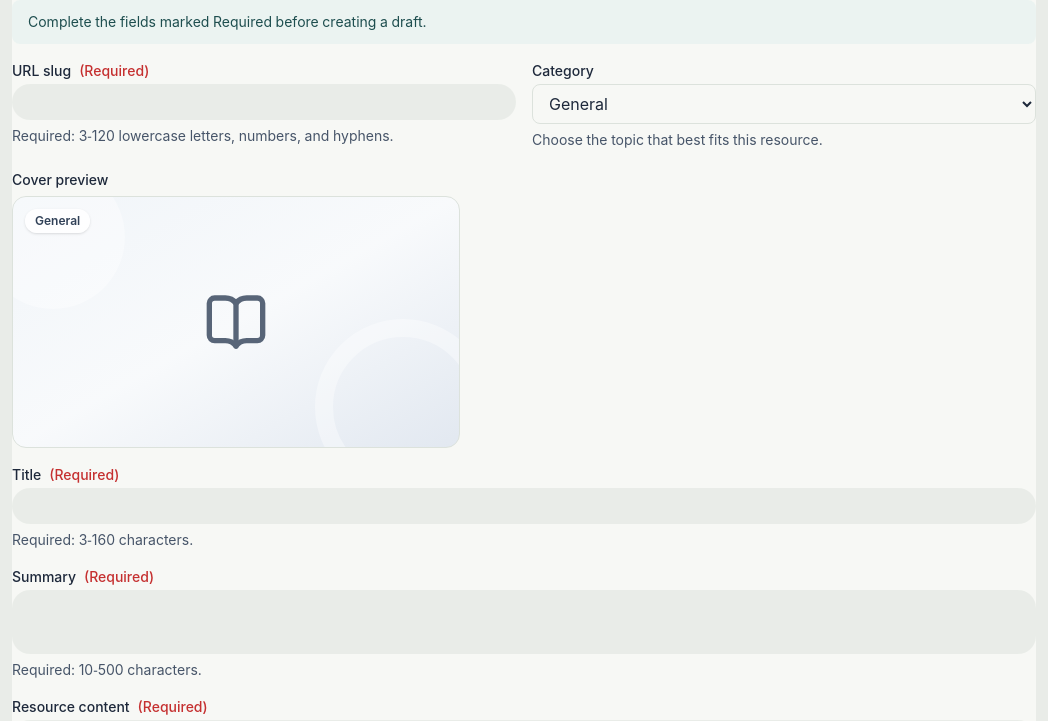
Test: ResourceForm › updates the category cover preview before an administrator creates the draft
Expected: the picture "General" is shown, [12,196,460,448]
Select "Healthcare" in the dropdown labelled "Category" at [784, 104], box [532,84,1036,124]
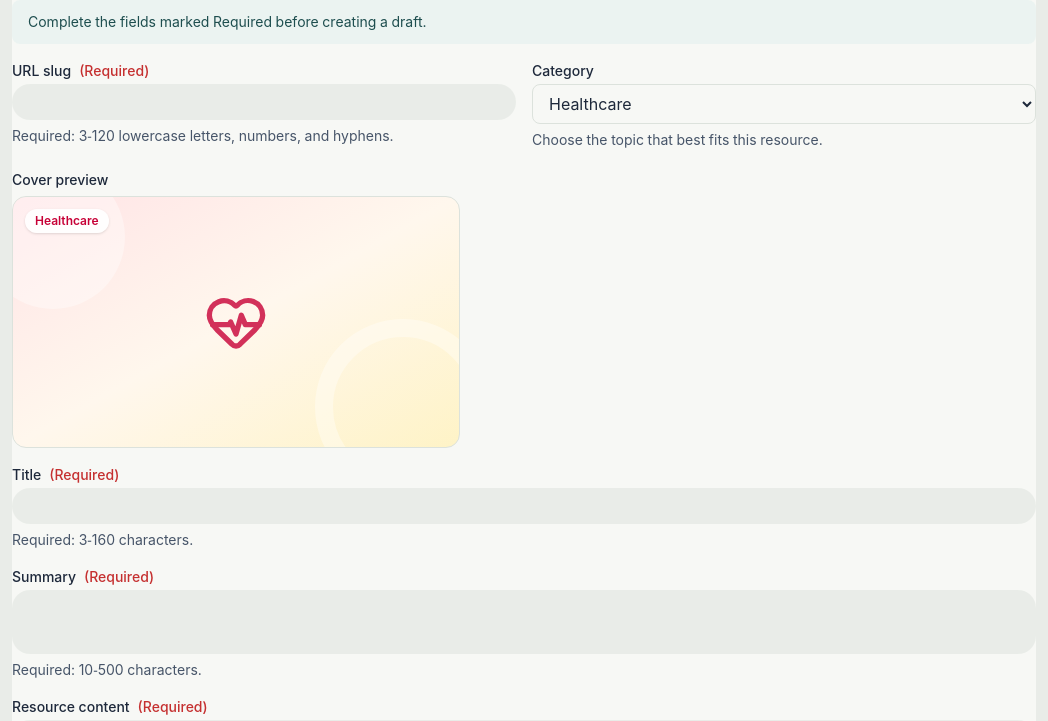
Expected: the picture "Healthcare" is shown, [12,196,460,448]
